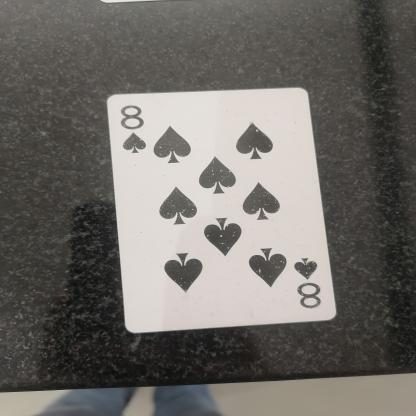8S: (289, 246, 337, 311), (108, 100, 158, 160)
